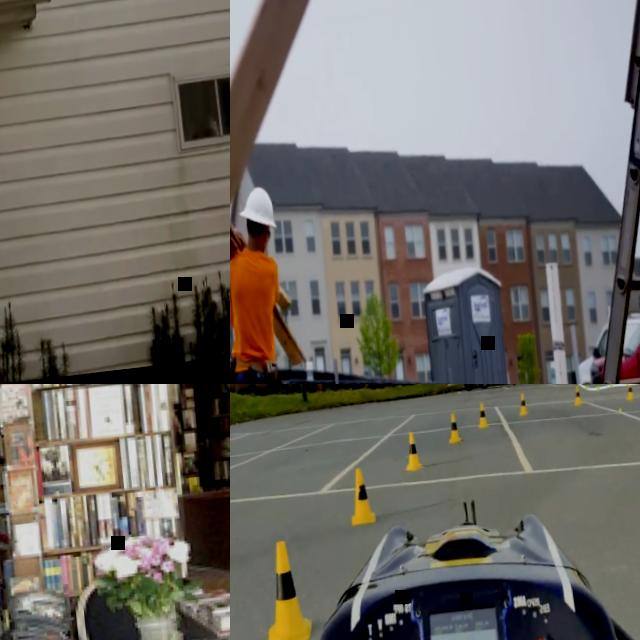Hardhat: (236, 185, 277, 233)
NO-Safety Vest: (230, 247, 287, 371)
Person: (230, 184, 312, 384)
Safety Cone: (254, 533, 313, 640), (347, 465, 376, 527), (401, 429, 422, 472), (446, 411, 463, 447), (515, 391, 529, 420), (476, 401, 489, 432), (572, 384, 583, 409), (625, 384, 634, 402)
vehicle: (230, 467, 640, 640), (578, 306, 640, 384), (573, 316, 631, 384)
